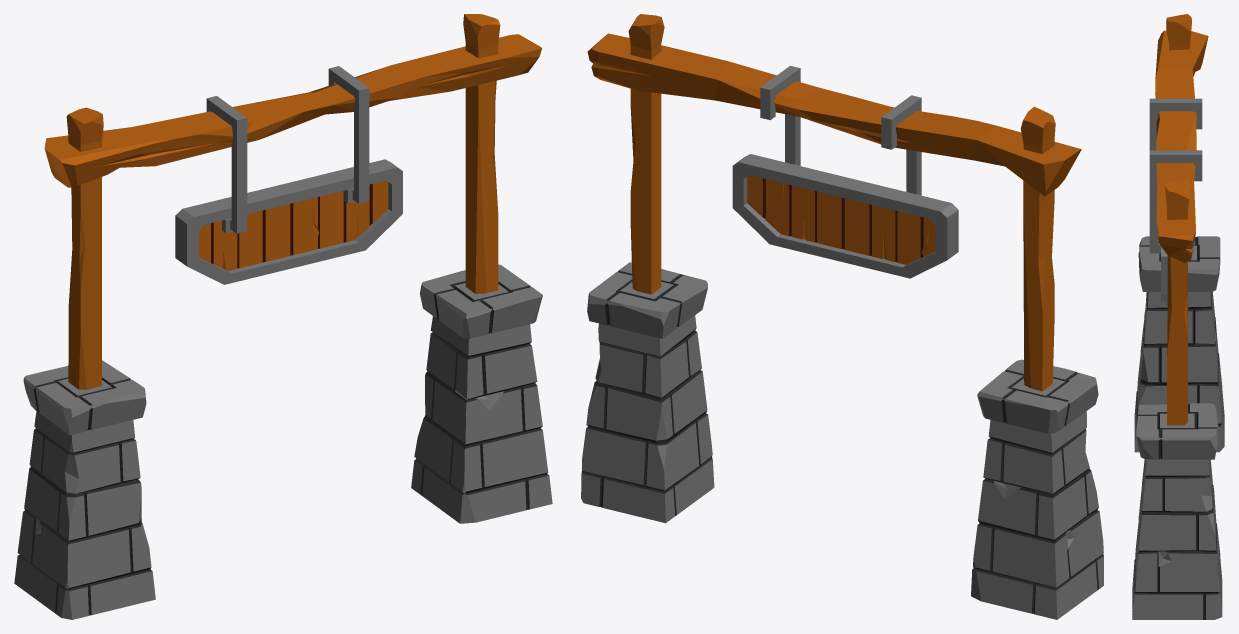
File: Gate.001_3.fbx
3 views of the same model, side by side, from view 1: azimuth 30°, elevation 25°; view 2: azimuth 150°, elevation 25°; view 3: azimuth 270°, elevation 25° (orthographic). The views are drawn at different scales.
Parts seen in each view (by area): view 1: Gate.001_3; view 2: Gate.001_3; view 3: Gate.001_3.
Boxes of the visible parts, box(x1,y1,x2,y2) form: Gate.001_3: box(14, 14, 552, 619); Gate.001_3: box(581, 14, 1103, 619); Gate.001_3: box(1132, 14, 1224, 619).
Size of the model in its own units: 129 by 120 by 24.09.
